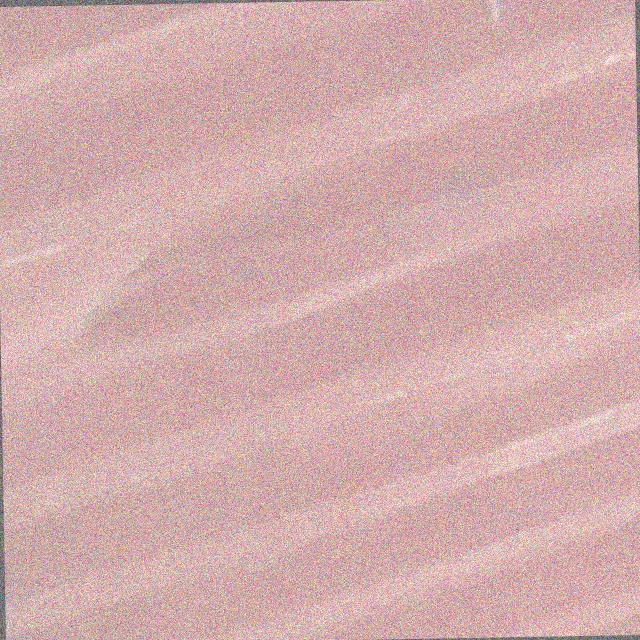Dent: (1, 121, 412, 510)
